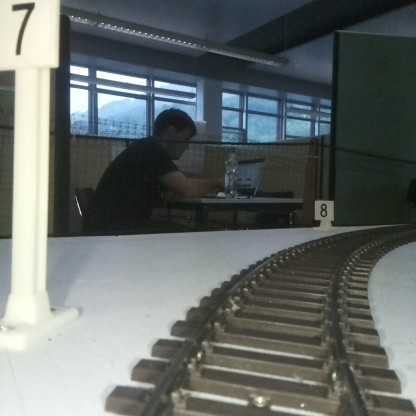white-info-7: (0, 0, 58, 344)
white-stop-8: (314, 201, 333, 230)
